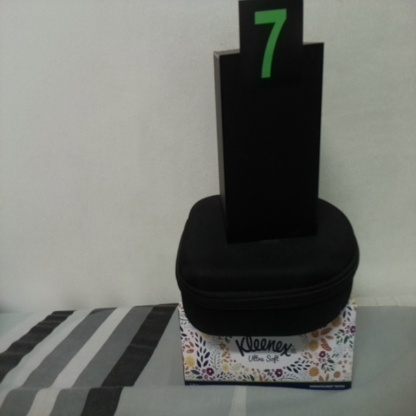id_7: (238, 1, 302, 102)
